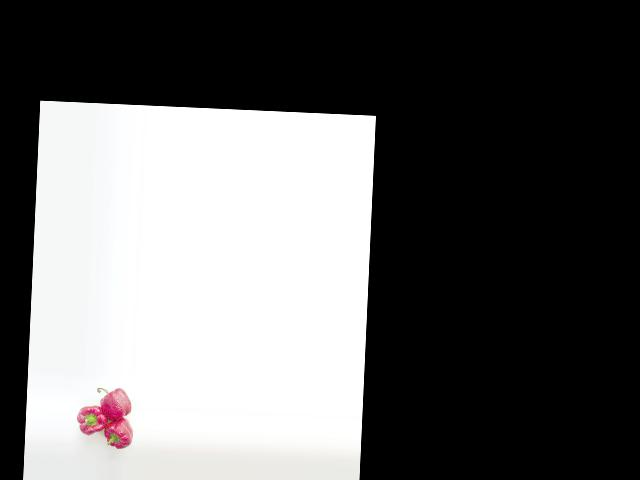bell_pepper: (94, 379, 134, 418)
